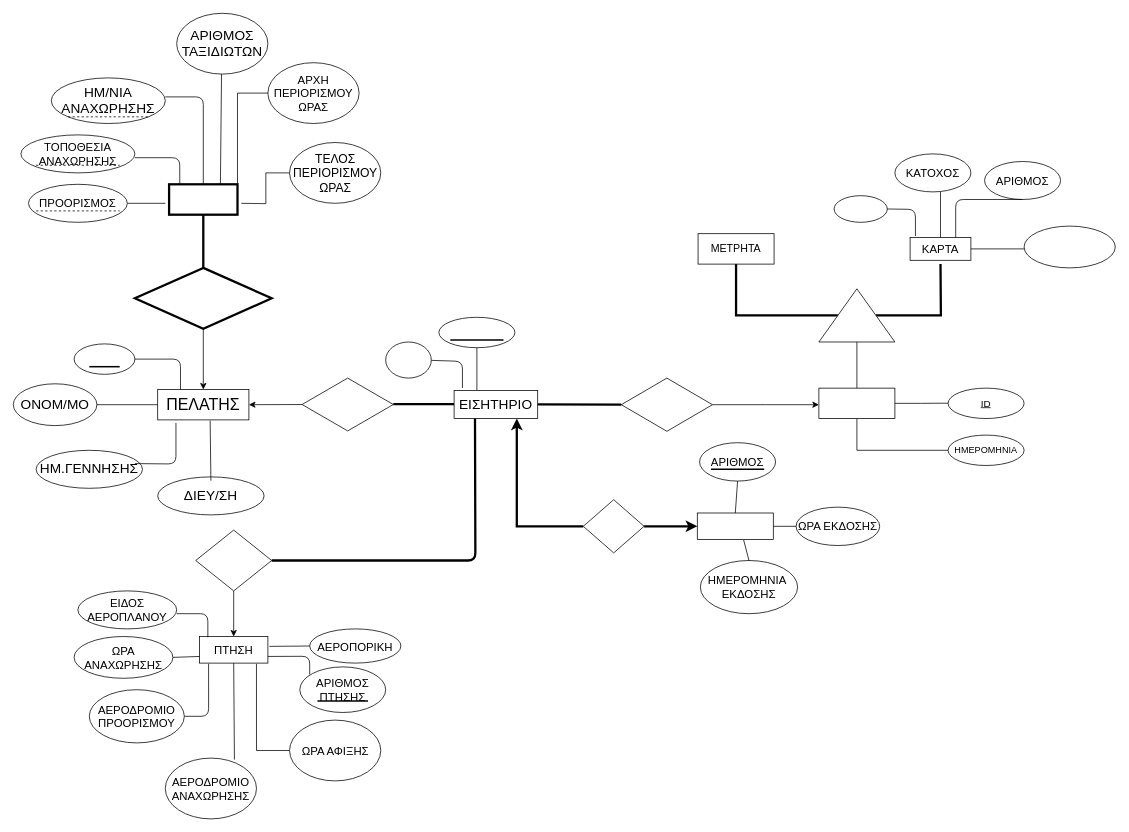
Some shapes in this 1129 by 832 pixel diagram are drawn without their labels. The box of each missing label's shape, as (x1, y1, x2, y2) in pixels:
I SA: (818, 288, 895, 342)
ΑΝΤΙΣΤΟΙΧΕΙ: (195, 529, 272, 591)
ΑΠΟΔΕΙΞΗ: (697, 512, 773, 540)
ΑΦΜ: (73, 343, 135, 374)
ΓΙΝΕΤΑΙ: (621, 377, 712, 431)
ΕΙΔΟΣ: (833, 195, 887, 222)
ΕΚΔΟΣΗ: (583, 499, 644, 553)
ΗΜΕΡΟΜΗΝΙΑ ΛΗΞΗΣ: (1023, 225, 1115, 268)
ΚΡΑΤΗΣΗ: (301, 377, 393, 431)
ΚΩΔΙΚΟΣ: (438, 317, 515, 348)
ΠΛΗΡΩΜΗ: (818, 387, 895, 419)
ΣΥΜΜΕΤΟΧΗ: (133, 266, 272, 329)
ΤΑΞΙΔΙ: (168, 183, 238, 215)
ΤΙΜΗ: (385, 341, 431, 378)
